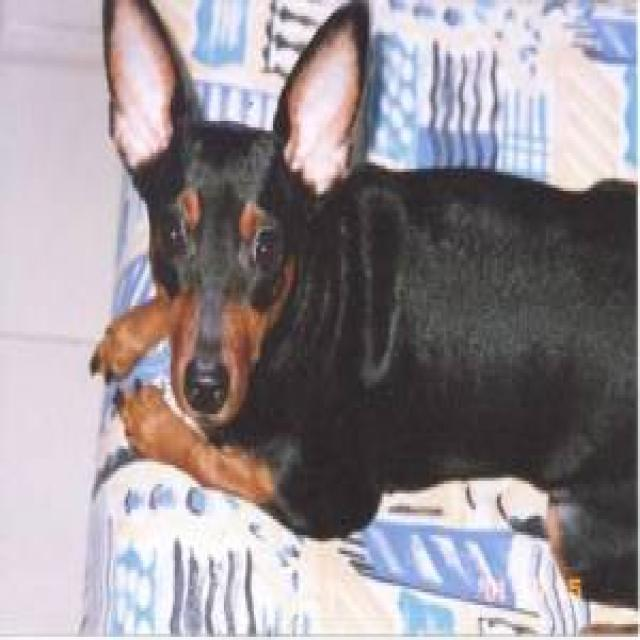dog-miniature_pinscher: (83, 3, 636, 624)
